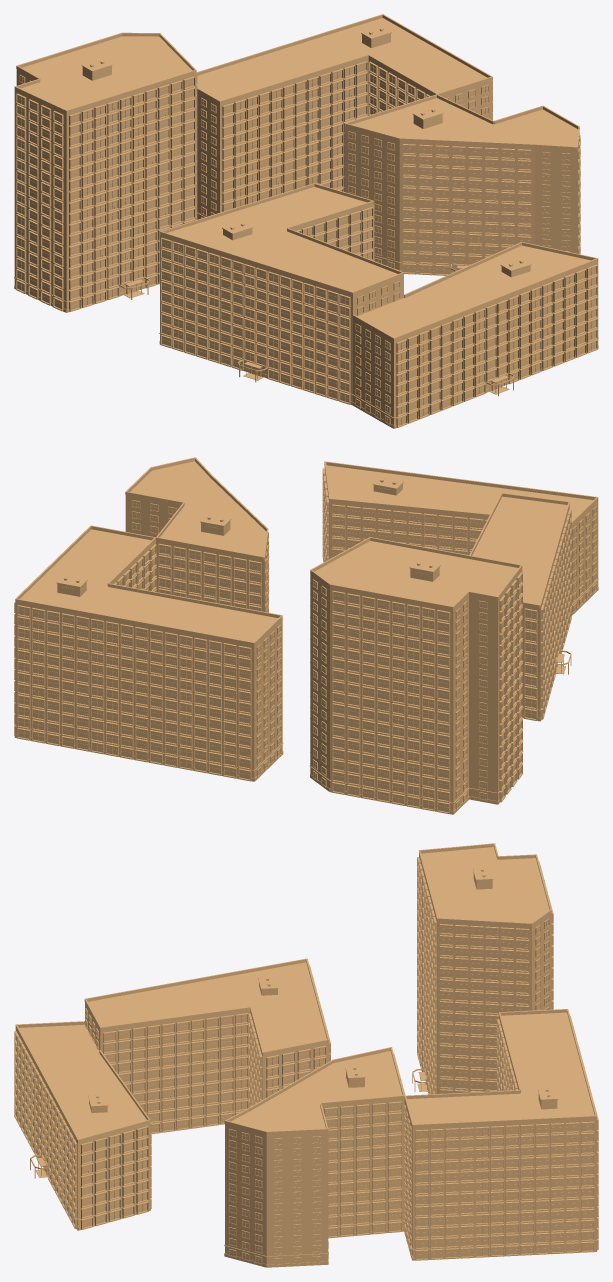
File: seu_lanyuan_candidate_v03.glb
3 views of the same model, one above another, from view 1: azimuth 30°, elevation 25°; view 2: azimuth 150°, elevation 25°; view 3: azimuth 270°, elevation 25° (orthographic). The views are drawn at different scales.
Parts seen in each view (by area): view 1: SEU_B_OSMWAY_1056927550__0036, SEU_B_OSMWAY_1056927550__0037, SEU_B_OSMWAY_1056927550__0048, SEU_B_OSMWAY_1056927550__0049, SEU_B_OSMWAY_1056927550__0001, SEU_B_OSMWAY_1056927550__0060, SEU_B_OSMWAY_1056927550__0024, SEU_B_OSMWAY_1056927550__0013, SEU_B_OSMWAY_1056927550__0042, SEU_B_OSMWAY_1056927550__0061, SEU_B_OSMWAY_1056927550__0018, SEU_B_OSMWAY_1056927550__0025 (+23 smaller); view 2: SEU_B_OSMWAY_1056927550__0036, SEU_B_OSMWAY_1056927550__0025, SEU_B_OSMWAY_1056927550__0024, SEU_B_OSMWAY_1056927550__0037, SEU_B_OSMWAY_1056927550__0003, SEU_B_OSMWAY_1056927550__0018, SEU_B_OSMWAY_1056927550__0002, SEU_B_OSMWAY_1056927550__0030, SEU_B_OSMWAY_1056927550__0006, SEU_B_OSMWAY_1056927550__0054, SEU_B_OSMWAY_1056927550__0042, SEU_B_OSMWAY_1056927550__0029 (+22 smaller); view 3: SEU_B_OSMWAY_1056927550__0025, SEU_B_OSMWAY_1056927550__0024, SEU_B_OSMWAY_1056927550__0001, SEU_B_OSMWAY_1056927550__0036, SEU_B_OSMWAY_1056927550__0042, SEU_B_OSMWAY_1056927550__0018, SEU_B_OSMWAY_1056927550__0048, SEU_B_OSMWAY_1056927550__0013, SEU_B_OSMWAY_1056927550__0049, SEU_B_OSMWAY_1056927550__0060, SEU_B_OSMWAY_1056927550__0037, SEU_B_OSMWAY_1056927550__0030 (+23 smaller).
Part boxes in pixels (bbox=[...]): SEU_B_OSMWAY_1056927550__0036: bbox=[16, 73, 197, 311]; SEU_B_OSMWAY_1056927550__0037: bbox=[17, 76, 193, 309]; SEU_B_OSMWAY_1056927550__0048: bbox=[160, 207, 400, 404]; SEU_B_OSMWAY_1056927550__0049: bbox=[162, 209, 399, 402]; SEU_B_OSMWAY_1056927550__0001: bbox=[344, 128, 579, 272]; SEU_B_OSMWAY_1056927550__0060: bbox=[355, 264, 597, 427]; SEU_B_OSMWAY_1056927550__0024: bbox=[196, 61, 492, 218]; SEU_B_OSMWAY_1056927550__0013: bbox=[349, 132, 569, 274]; SEU_B_OSMWAY_1056927550__0042: bbox=[160, 187, 403, 297]; SEU_B_OSMWAY_1056927550__0061: bbox=[356, 266, 596, 425]; SEU_B_OSMWAY_1056927550__0018: bbox=[197, 18, 492, 105]; SEU_B_OSMWAY_1056927550__0025: bbox=[201, 63, 488, 214]; SEU_B_OSMWAY_1056927550__0036: bbox=[312, 572, 522, 813]; SEU_B_OSMWAY_1056927550__0025: bbox=[18, 547, 280, 779]; SEU_B_OSMWAY_1056927550__0024: bbox=[14, 544, 281, 780]; SEU_B_OSMWAY_1056927550__0037: bbox=[313, 576, 521, 812]; SEU_B_OSMWAY_1056927550__0003: bbox=[310, 570, 522, 814]; SEU_B_OSMWAY_1056927550__0018: bbox=[15, 529, 282, 647]; SEU_B_OSMWAY_1056927550__0002: bbox=[15, 543, 282, 778]; SEU_B_OSMWAY_1056927550__0030: bbox=[310, 541, 522, 611]; SEU_B_OSMWAY_1056927550__0006: bbox=[125, 461, 268, 562]; SEU_B_OSMWAY_1056927550__0054: bbox=[324, 465, 598, 527]; SEU_B_OSMWAY_1056927550__0042: bbox=[472, 496, 569, 610]; SEU_B_OSMWAY_1056927550__0029: bbox=[14, 525, 283, 781]; SEU_B_OSMWAY_1056927550__0025: bbox=[406, 1116, 593, 1258]; SEU_B_OSMWAY_1056927550__0024: bbox=[404, 1015, 598, 1260]; SEU_B_OSMWAY_1056927550__0001: bbox=[225, 1100, 404, 1264]; SEU_B_OSMWAY_1056927550__0036: bbox=[417, 857, 553, 1094]; SEU_B_OSMWAY_1056927550__0042: bbox=[85, 962, 329, 1057]; SEU_B_OSMWAY_1056927550__0018: bbox=[404, 1012, 596, 1129]; SEU_B_OSMWAY_1056927550__0048: bbox=[85, 965, 330, 1133]; SEU_B_OSMWAY_1056927550__0013: bbox=[229, 1103, 400, 1264]; SEU_B_OSMWAY_1056927550__0049: bbox=[85, 1010, 325, 1132]; SEU_B_OSMWAY_1056927550__0060: bbox=[14, 1031, 151, 1229]; SEU_B_OSMWAY_1056927550__0037: bbox=[440, 920, 548, 1093]; SEU_B_OSMWAY_1056927550__0030: bbox=[419, 847, 551, 928].
Bounding box in the file's own units: 128 × 56.76 × 142.
